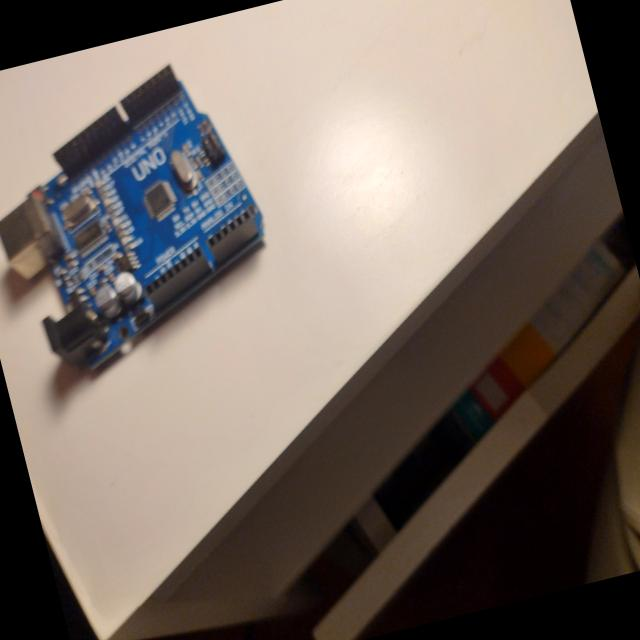arduino: (0, 42, 311, 400)
